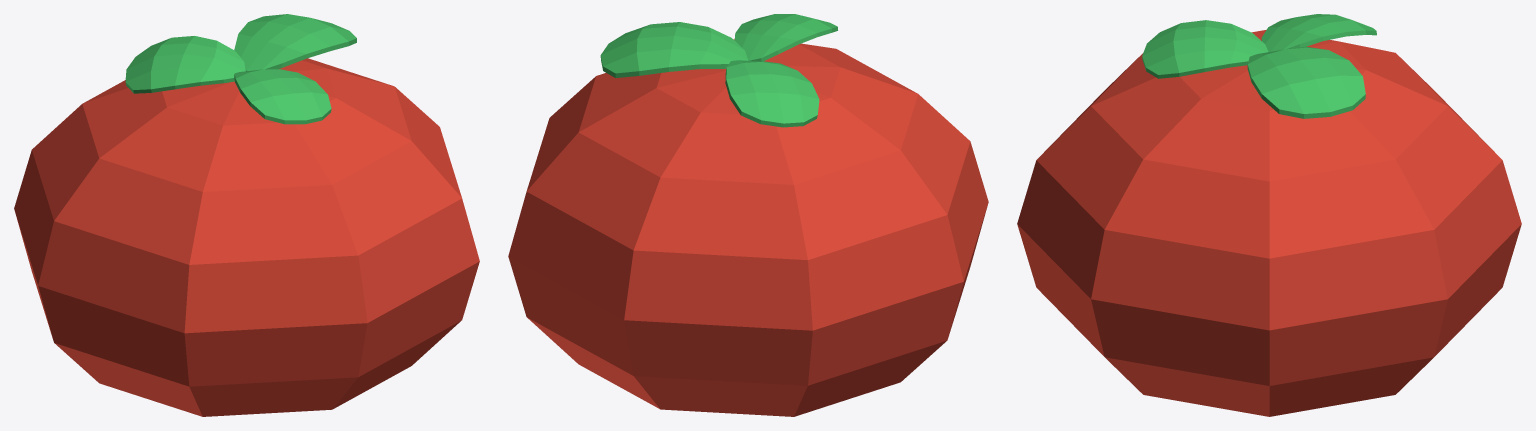
File: Tomato.fbx
The picture shows the model from 3 angles, left to right: view 1: azimuth 30°, elevation 25°; view 2: azimuth 150°, elevation 25°; view 3: azimuth 270°, elevation 25°; orthographic projection. The views are drawn at different scales.
Visible parts, largest first — view 1: Plane; view 2: Plane; view 3: Plane.
Boxes of the visible parts, <box> form: Plane: <box>14,14,479,416</box>; Plane: <box>508,14,988,416</box>; Plane: <box>1017,14,1521,416</box>.
Bounding box in the file's own units: 11.07 × 11.07 × 8.42.
